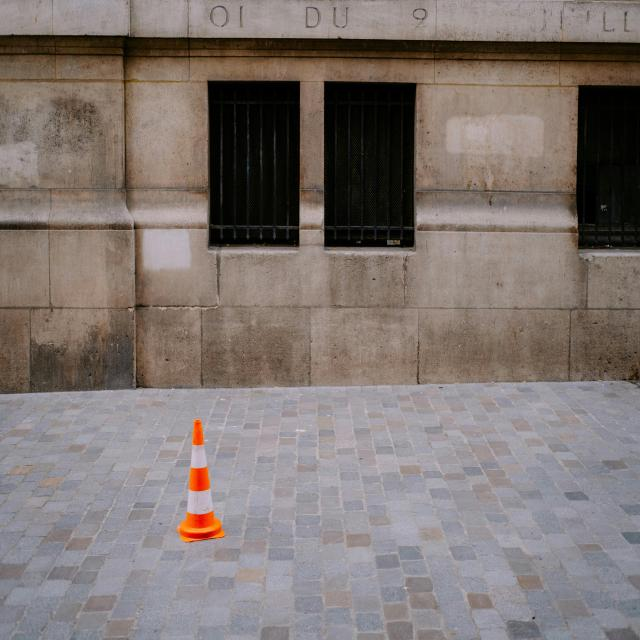Traffic Cone: (168, 402, 233, 560)
